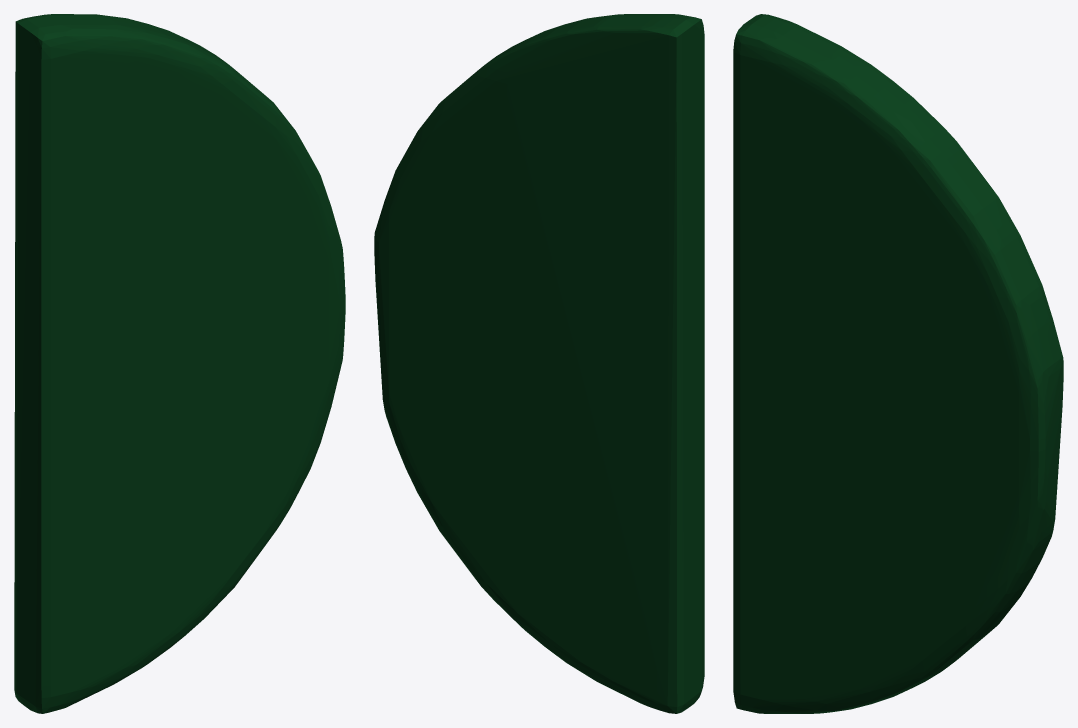
The model's file is left-hip-pitch-0_part_25.obj.
The picture shows the model from 3 angles, left to right: view 1: azimuth 30°, elevation 25°; view 2: azimuth 150°, elevation 25°; view 3: azimuth 330°, elevation 25°; orthographic projection.
Bounding box in the file's own units: 0.0653 × 0.1377 × 0.011.
